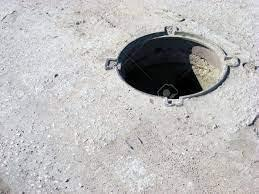open manhole-not overflowing-: (106, 26, 241, 106)
